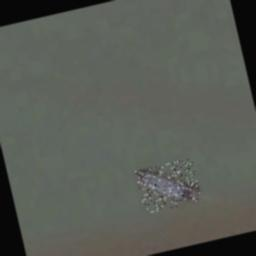boat: (136, 158, 202, 214)
